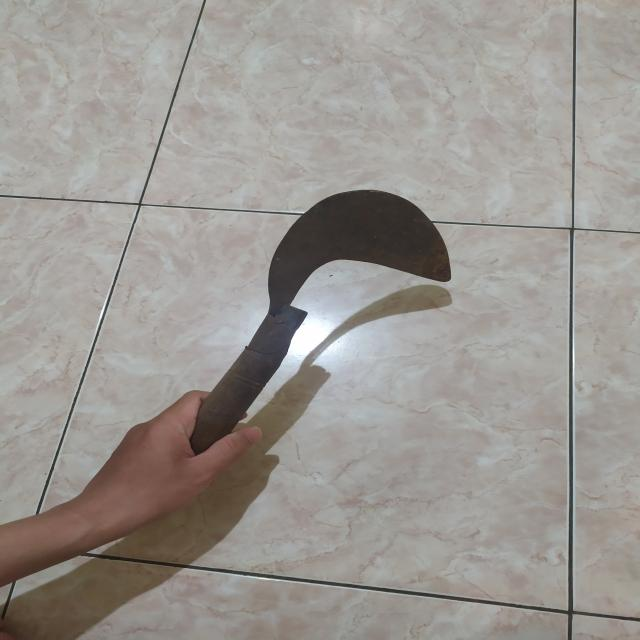Celurit: (159, 192, 449, 485)
